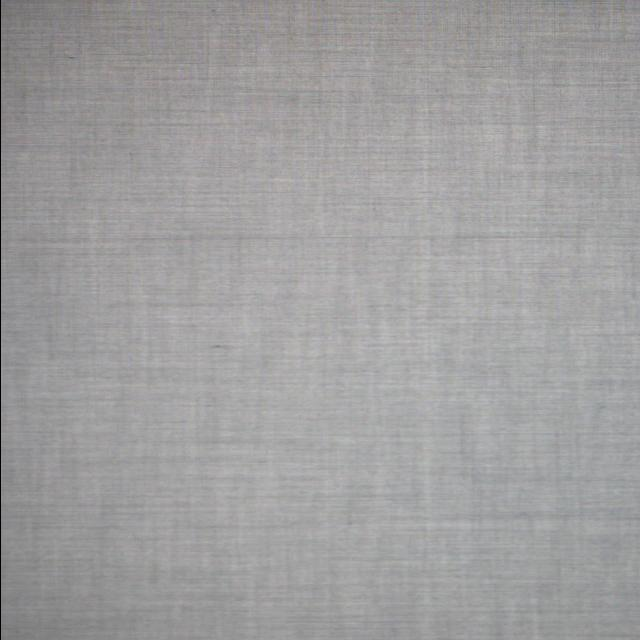dirty: (210, 345, 226, 349)
